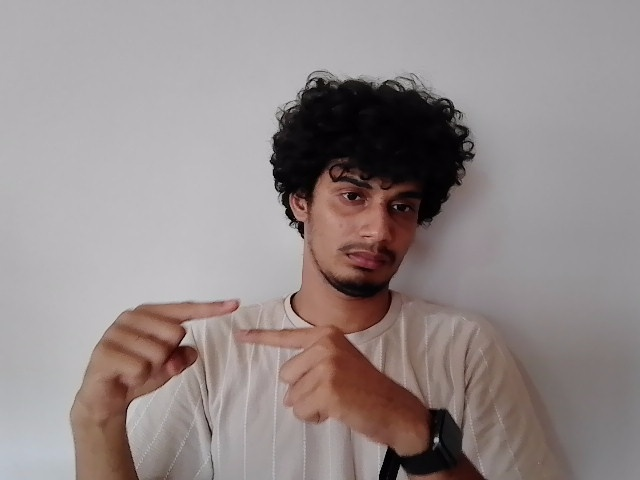about: (65, 296, 414, 439)
